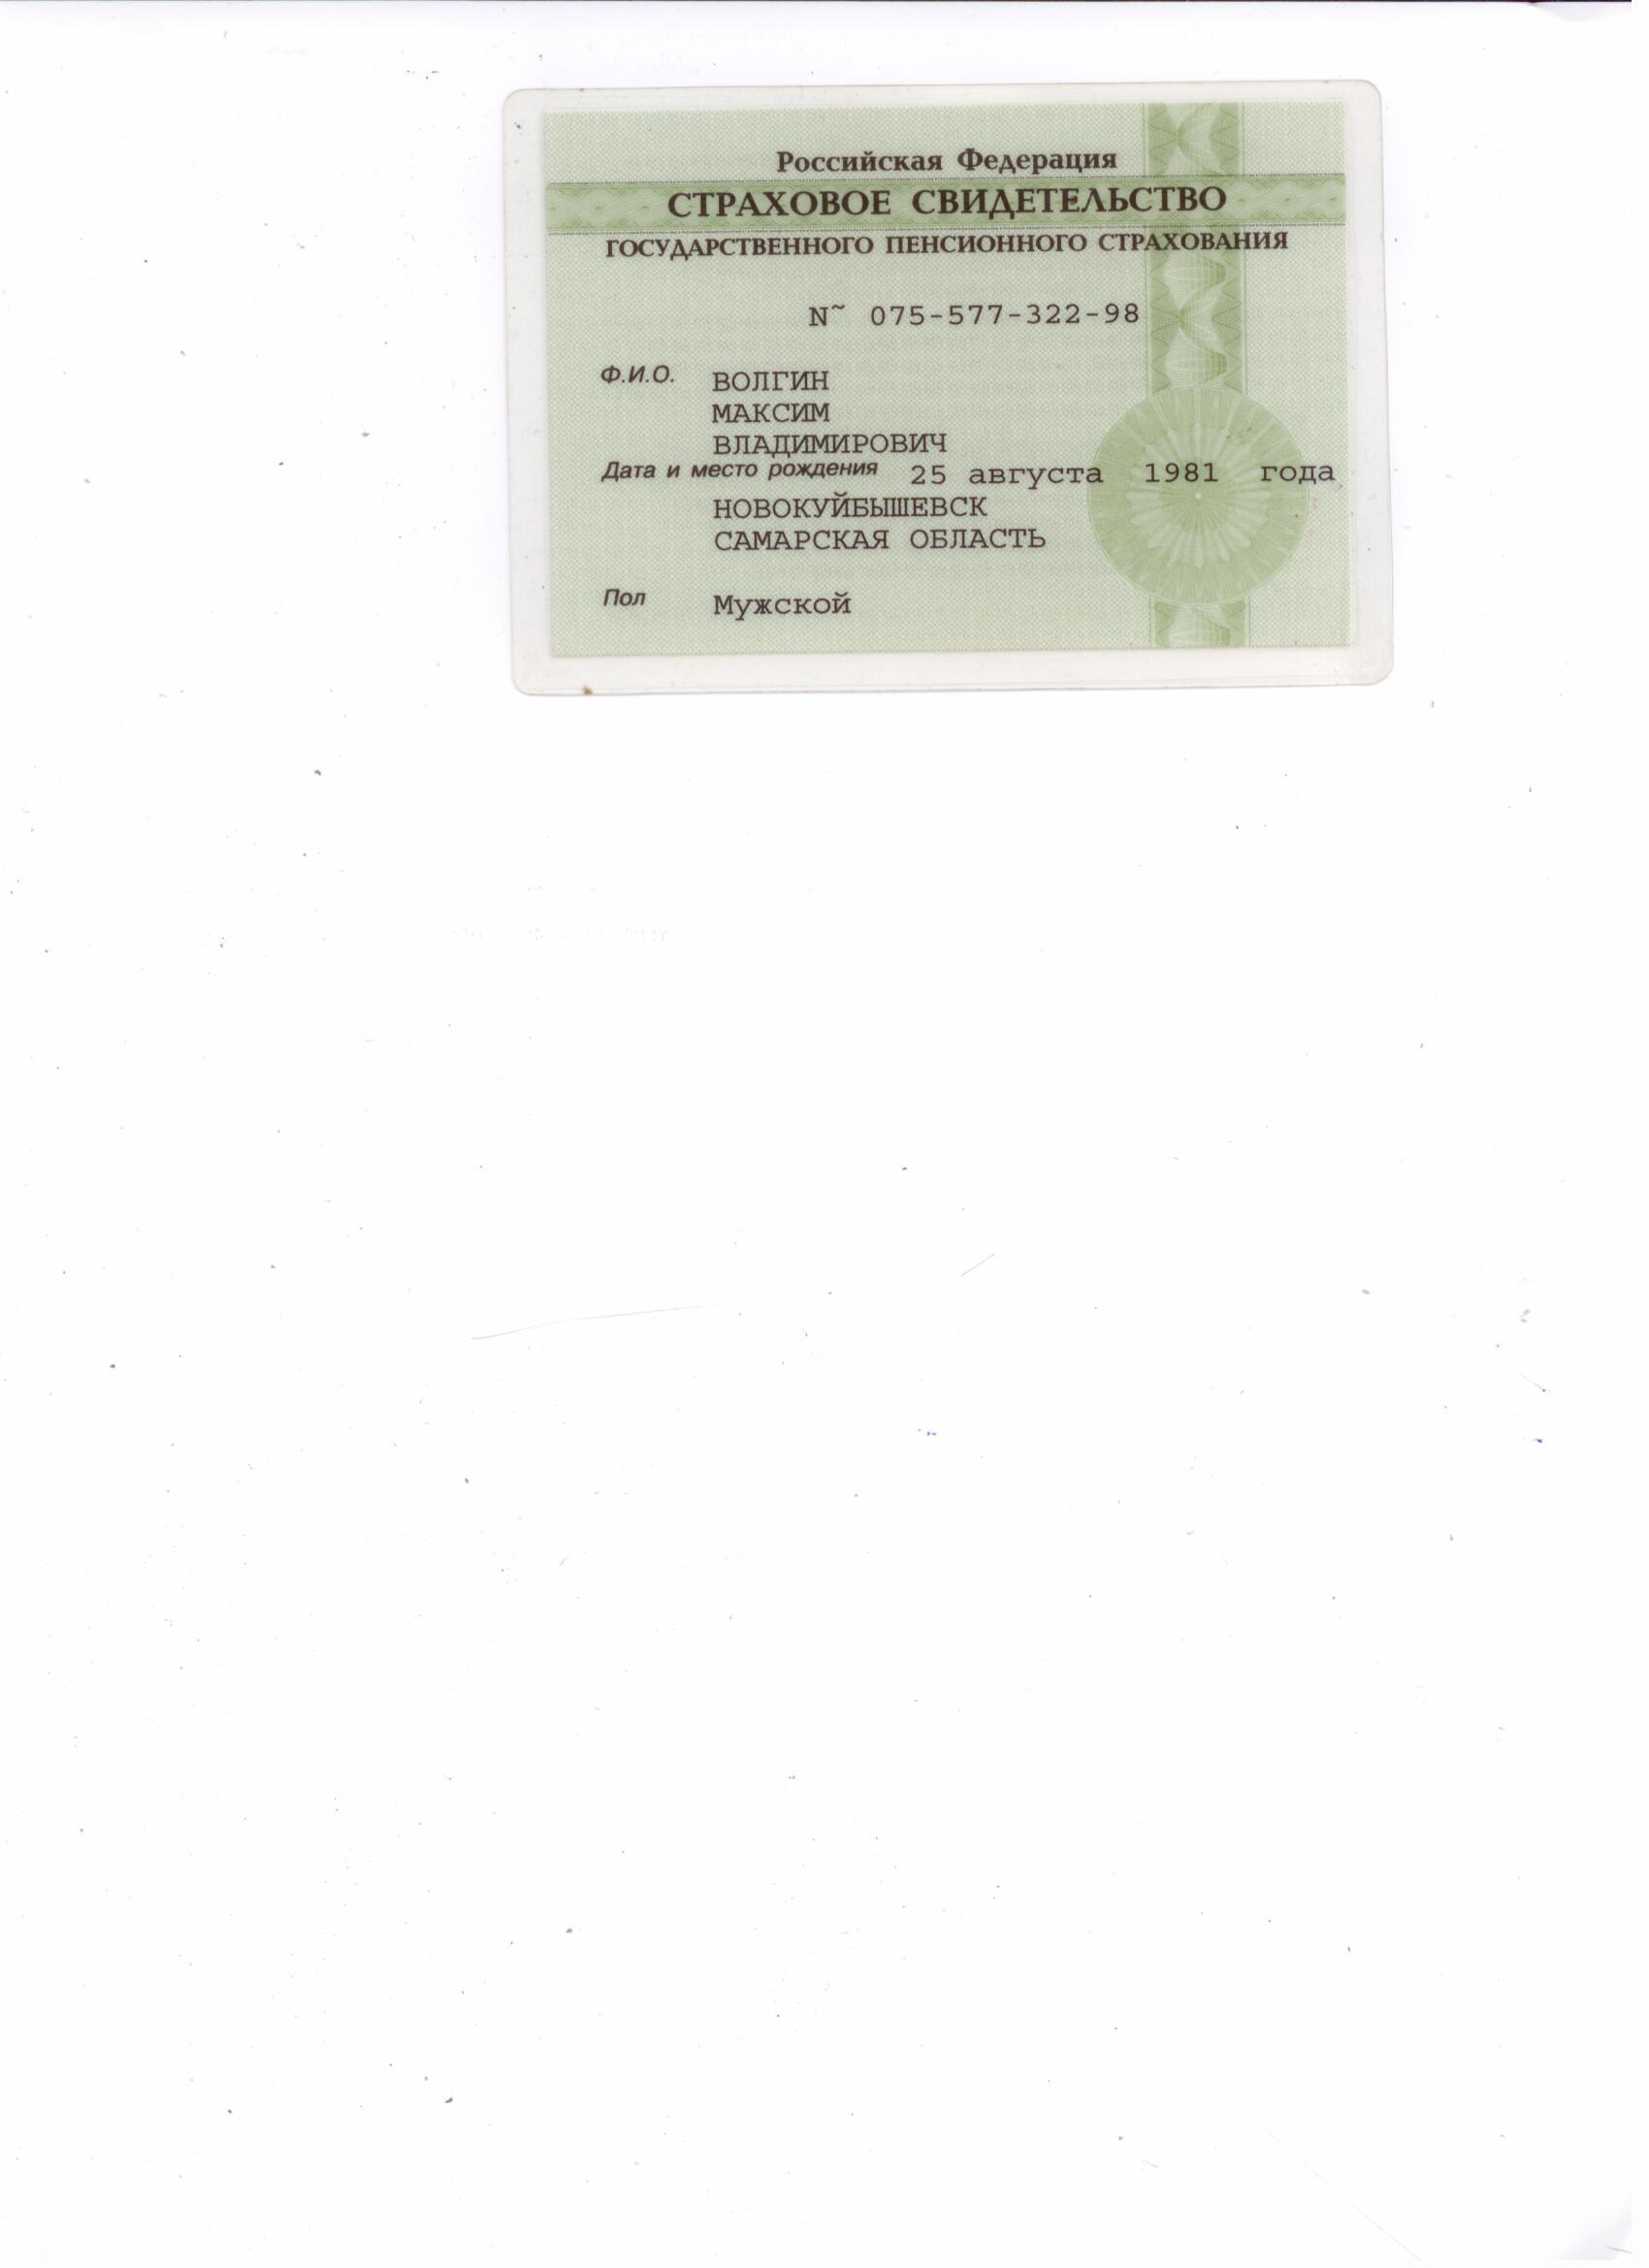text: (713, 490, 1051, 551), (906, 461, 1339, 488), (854, 298, 1139, 336), (709, 426, 954, 456), (704, 592, 861, 618), (704, 396, 839, 426), (707, 368, 836, 396)
